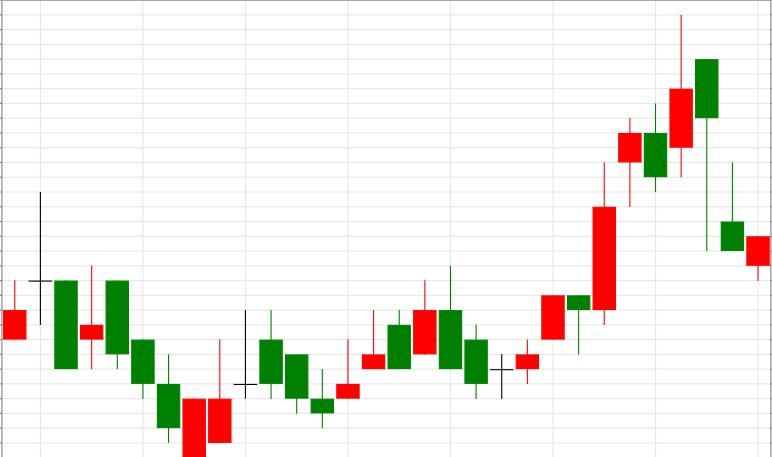hanging_man_fall: (516, 16, 718, 383)
